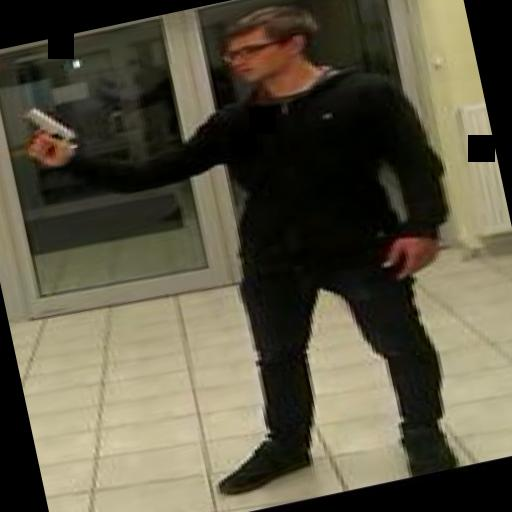Handgun: (9, 94, 81, 164)
